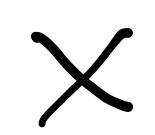mult: (32, 28, 135, 127)
